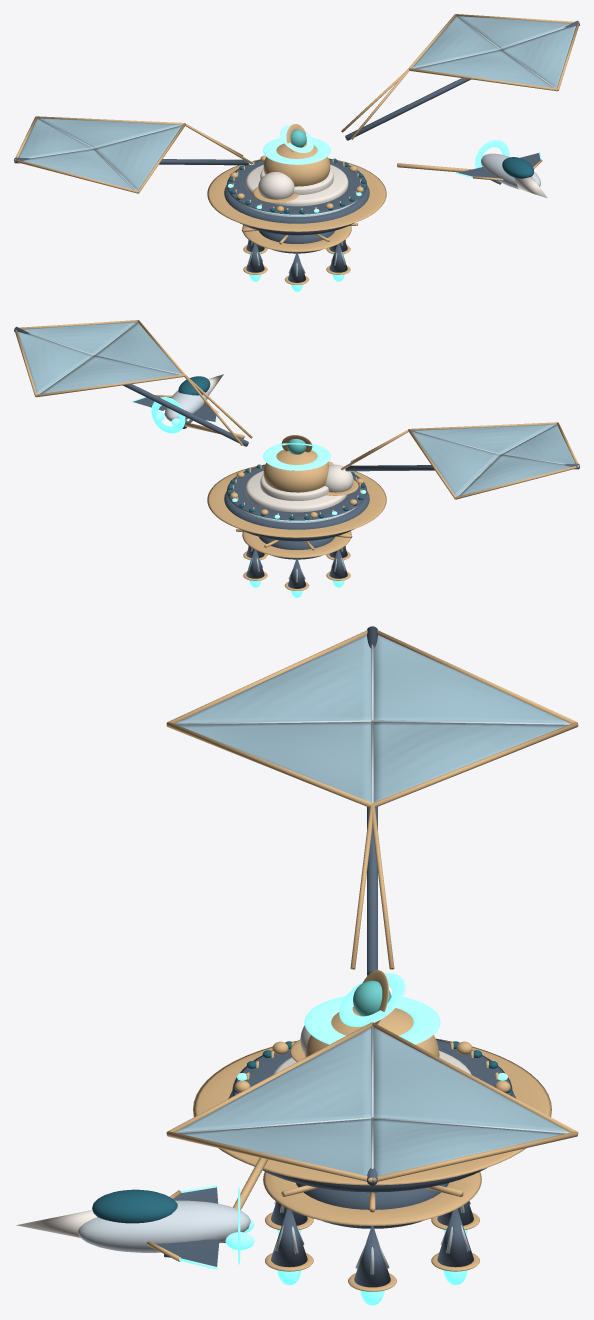
File: static.glb
The picture shows the model from 3 angles, top to bottom: view 1: azimuth 30°, elevation 25°; view 2: azimuth 150°, elevation 25°; view 3: azimuth 270°, elevation 25°; orthographic projection. The views are drawn at different scales.
Parts seen in each view (by area): view 1: P2K_Static; view 2: P2K_Static; view 3: P2K_Static.
Part boxes in pixels (x1,y1,x2,y2): P2K_Static: (14,14,579,291); P2K_Static: (14,320,579,597); P2K_Static: (16,626,578,1305).
Size of the model in its own units: 15.35 by 4.72 by 6.62.
